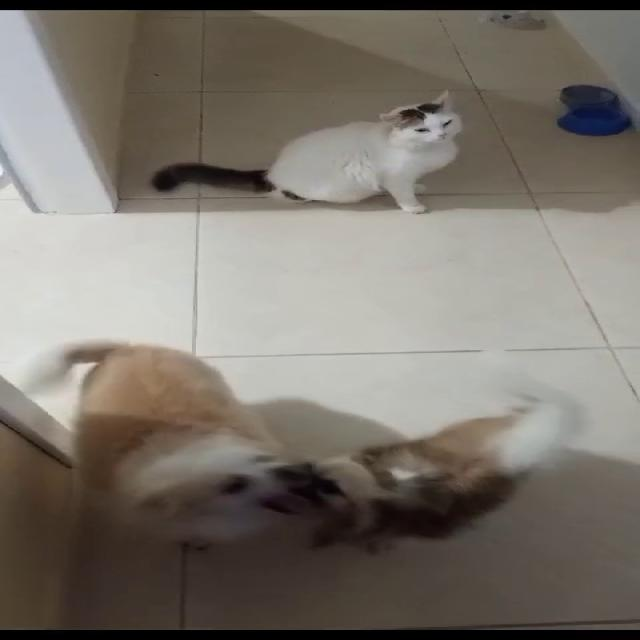Pedrita: (274, 395, 639, 545)
Simba: (199, 87, 545, 213)
